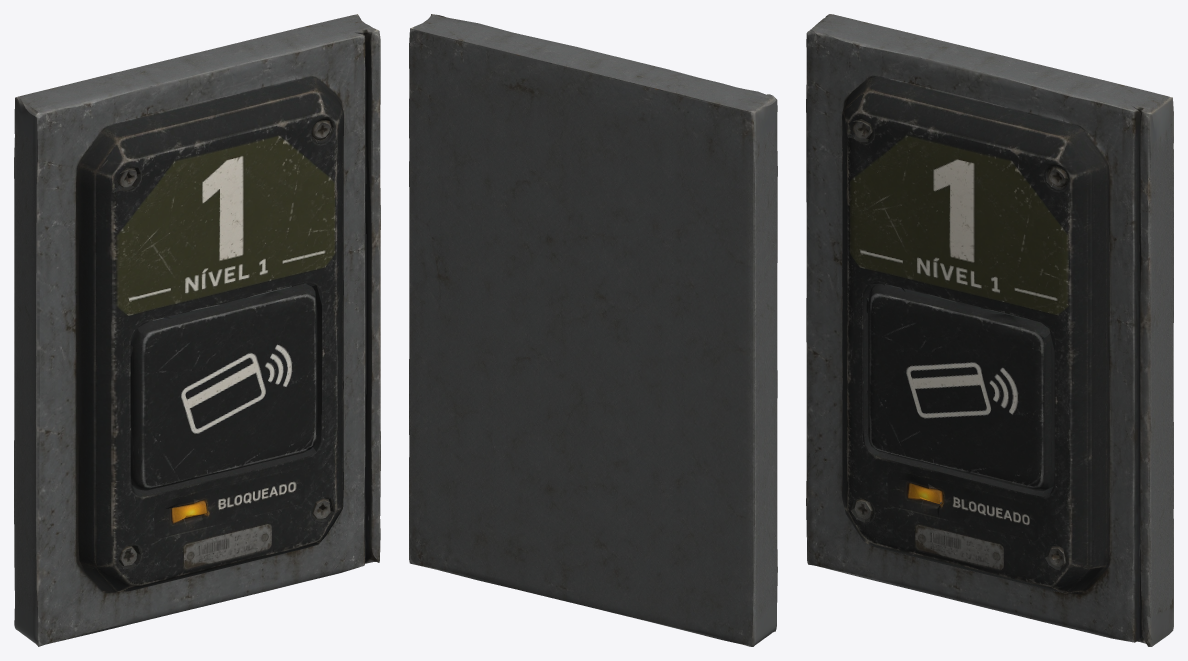
File: fechadura.glb
3 renders of one model, left to right at view 1: azimuth 30°, elevation 25°; view 2: azimuth 150°, elevation 25°; view 3: azimuth 330°, elevation 25°, orthographic.
Parts seen in each view (by area): view 1: Mesh0; view 2: Mesh0; view 3: Mesh0.
Boxes of the visible parts, x1,y1,x2,y2 form: Mesh0: [14, 14, 380, 646]; Mesh0: [409, 14, 777, 646]; Mesh0: [806, 14, 1173, 646].
Size of the model in its own units: 1.29 by 1.9 by 0.2985.
Materials: 1 (1 with a texture image).
